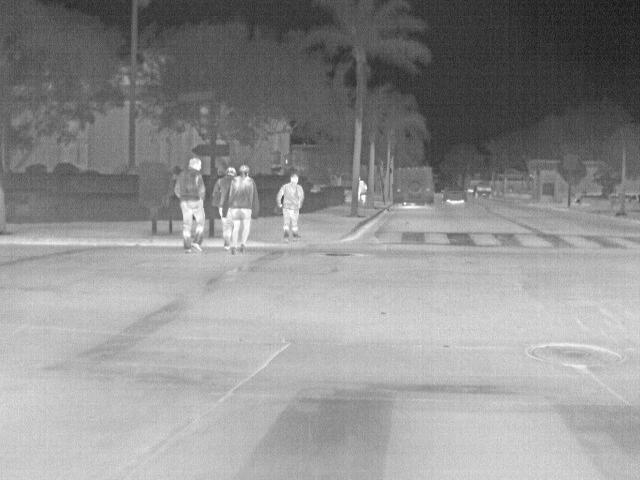car: (392, 165, 436, 206), (440, 184, 468, 203), (475, 181, 493, 200)
person: (174, 157, 206, 256), (227, 162, 254, 251), (277, 172, 307, 242), (219, 166, 237, 248), (356, 176, 371, 206)
